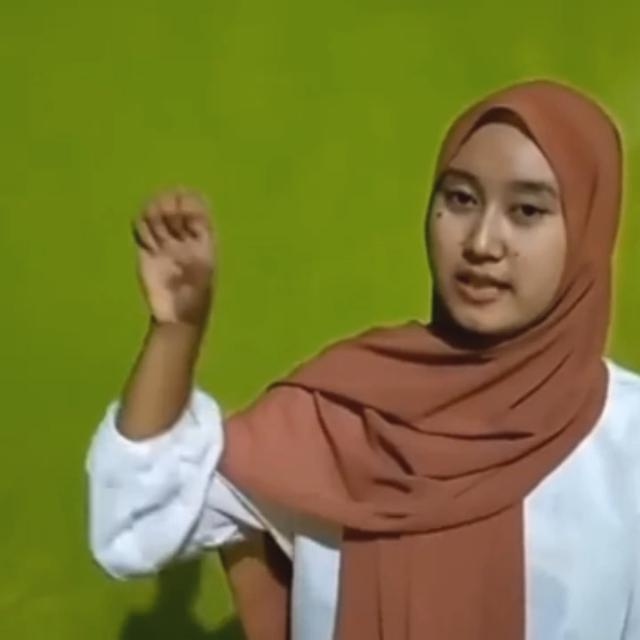E: (126, 183, 220, 333)
